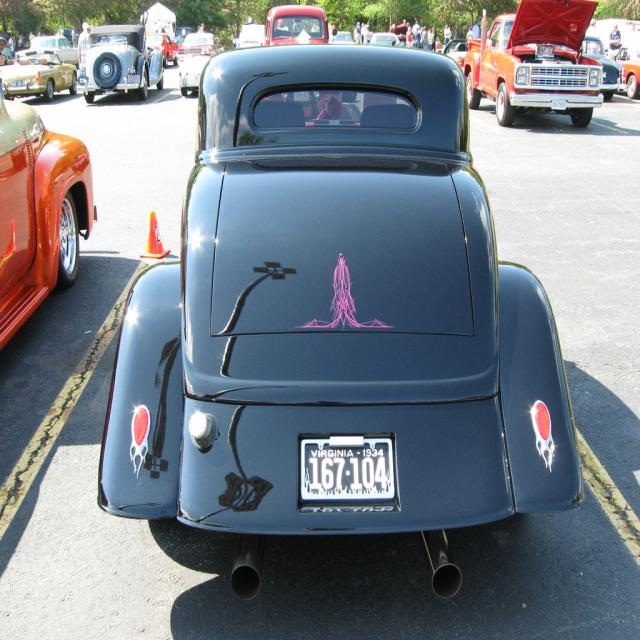car: (120, 46, 586, 593)
